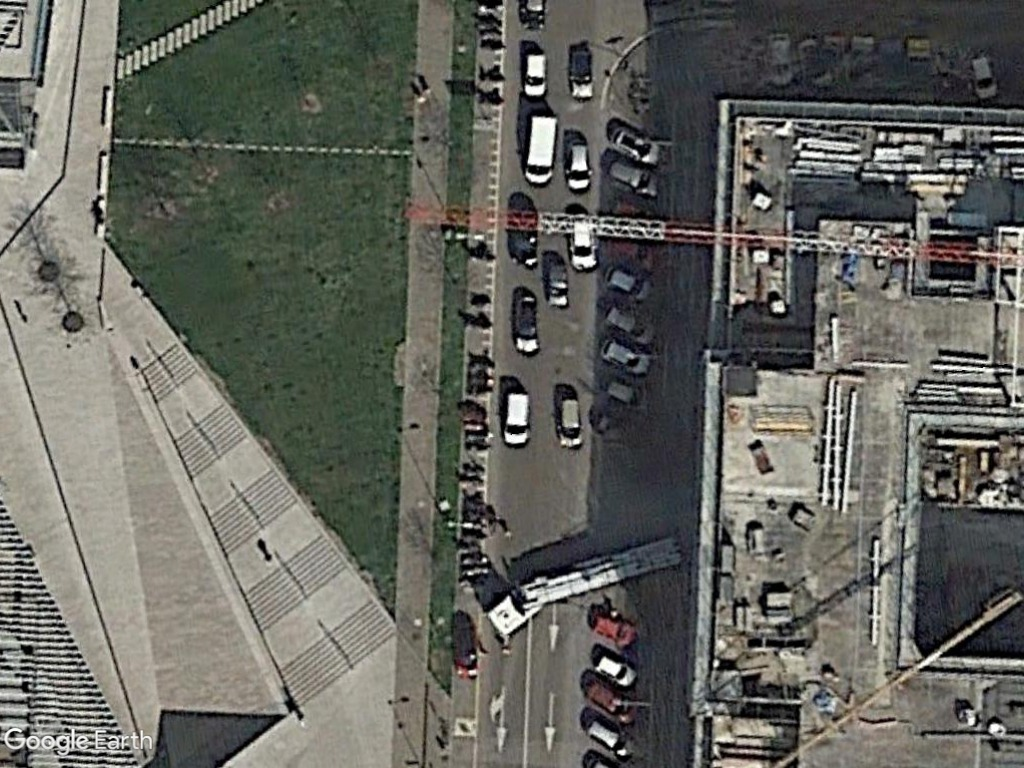car: (579, 707, 641, 761), (605, 299, 667, 349), (605, 118, 665, 169), (587, 644, 642, 697), (550, 387, 589, 456), (508, 288, 545, 360), (597, 332, 655, 377), (561, 210, 602, 272), (588, 604, 640, 652), (604, 259, 655, 305), (502, 389, 534, 454), (541, 251, 575, 312), (967, 53, 1004, 106), (564, 131, 592, 195), (521, 48, 551, 102)
other: (563, 42, 597, 103)
van: (522, 107, 560, 186)
